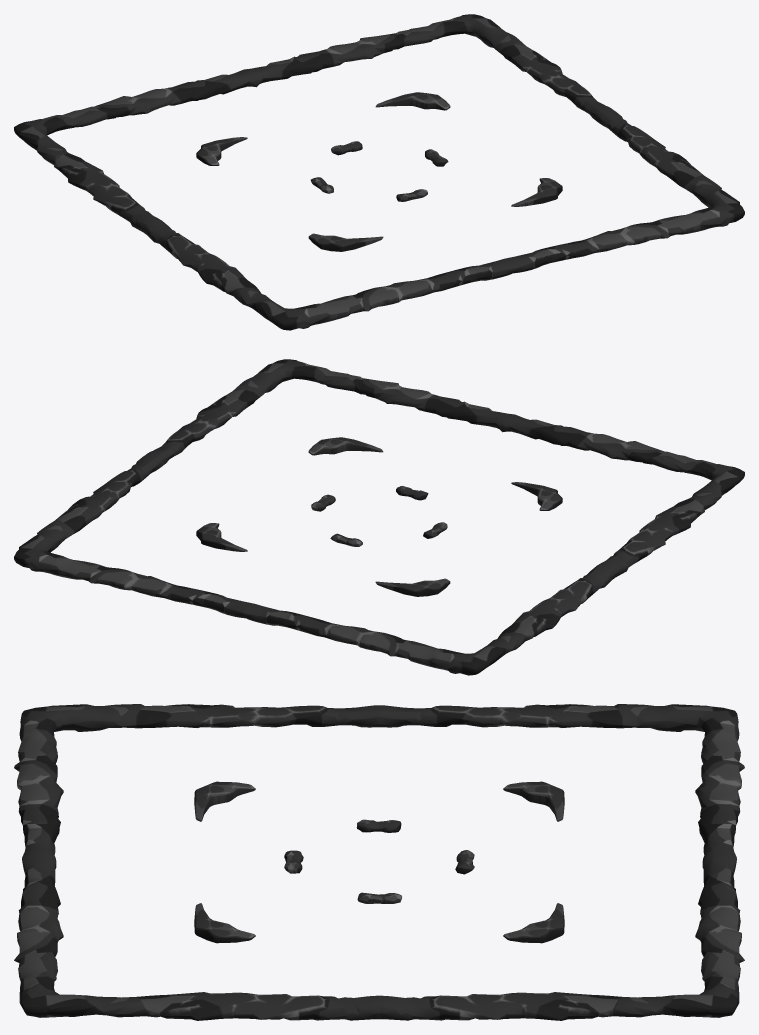
File: Border1_Meshes.fbx
3 views of the same model, one above another, from view 1: azimuth 30°, elevation 25°; view 2: azimuth 150°, elevation 25°; view 3: azimuth 270°, elevation 25° (orthographic). The views are drawn at different scales.
Parts seen in each view (by area): view 1: Border3, Border4, Border2, Border1, OuterBlock.003, OuterBlock, OuterBlock.001, OuterBlock.002; view 2: Border4, Border3, Border1, Border2, OuterBlock.002, OuterBlock.001, OuterBlock.003, OuterBlock; view 3: Border2, Border1, Border4, Border3, OuterBlock, OuterBlock.001, OuterBlock.002, OuterBlock.003, InnerBlock.003.
Part boxes in pixels (left/top/right/bottom): Border3: left=143, top=219, right=514, bottom=330; Border4: left=14, top=69, right=256, bottom=232; Border2: left=504, top=109, right=744, bottom=273; Border1: left=244, top=14, right=612, bottom=120; OuterBlock.003: left=375, top=92, right=450, bottom=110; OuterBlock: left=308, top=233, right=383, bottom=251; OuterBlock.001: left=196, top=137, right=247, bottom=165; OuterBlock.002: left=511, top=178, right=562, bottom=206; Border4: left=244, top=564, right=615, bottom=675; Border3: left=502, top=414, right=744, bottom=577; Border1: left=14, top=454, right=254, bottom=618; Border2: left=146, top=359, right=514, bottom=465; OuterBlock.002: left=308, top=437, right=383, bottom=455; OuterBlock.001: left=375, top=578, right=450, bottom=596; OuterBlock.003: left=196, top=523, right=247, bottom=551; OuterBlock: left=511, top=482, right=562, bottom=510; Border2: left=14, top=854, right=379, bottom=1020; Border1: left=379, top=854, right=744, bottom=1020; Border4: left=379, top=704, right=744, bottom=863; Border3: left=14, top=704, right=379, bottom=863; OuterBlock: left=194, top=781, right=255, bottom=821; OuterBlock.001: left=503, top=781, right=564, bottom=821; OuterBlock.002: left=194, top=903, right=255, bottom=943; OuterBlock.003: left=503, top=903, right=564, bottom=943; InnerBlock.003: left=356, top=819, right=401, bottom=832.
Bounding box in the file's own units: 4311 × 135 × 4274.
Materials: 1 (1 with a texture image).
